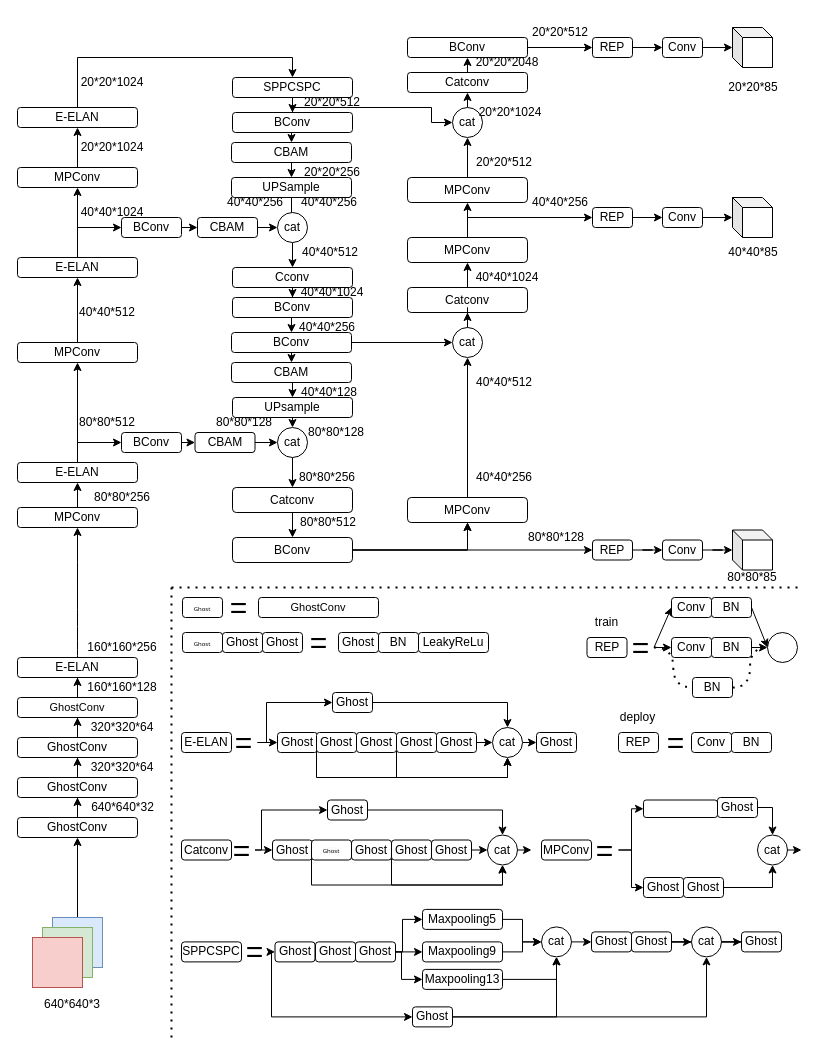
The diagram is 827 pixels wide and 1056 high, and some of its shapes have lost their labels. The shapes that lost their labels are listed below. From the top down, each one's centre as x and y in pixels, then its label:
(782,647): add
(680,808): Maxpooling
